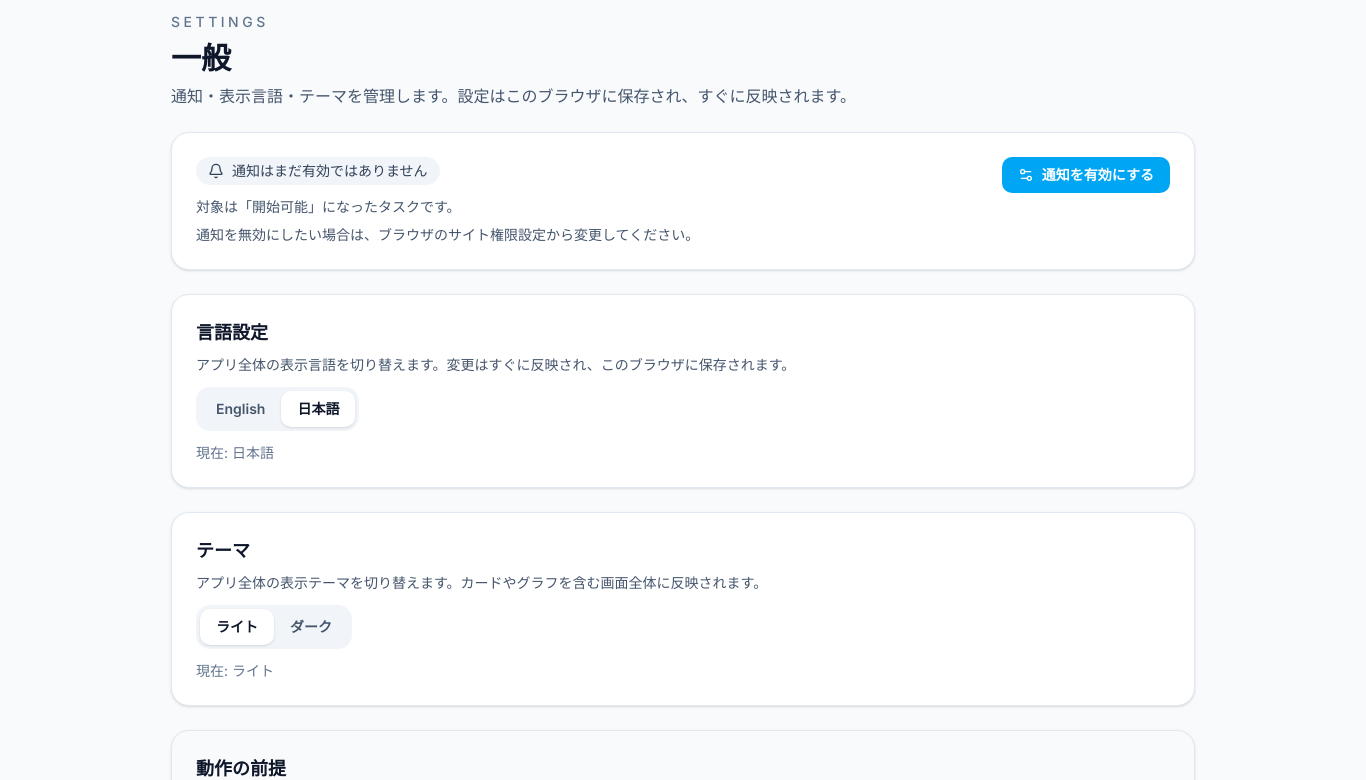
Scenario: NotificationsSettingsPage › switches the page copy to English
The image size is (1366, 780).
Click the button "English" at (241, 409), box 200,391 -> 281,427
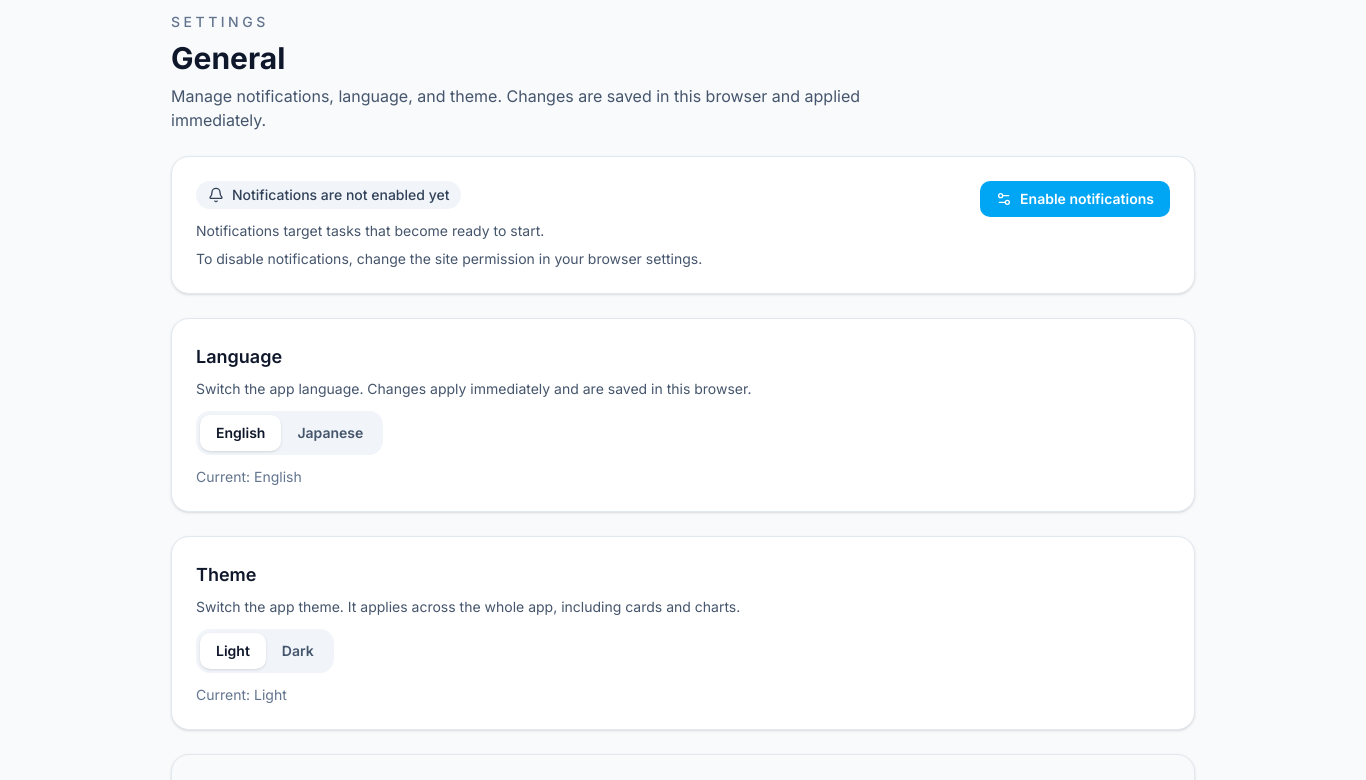
Check: the heading "General" is shown, box 171,40 -> 285,76
Check: the button "Enable notifications" is shown, box 980,181 -> 1170,217
